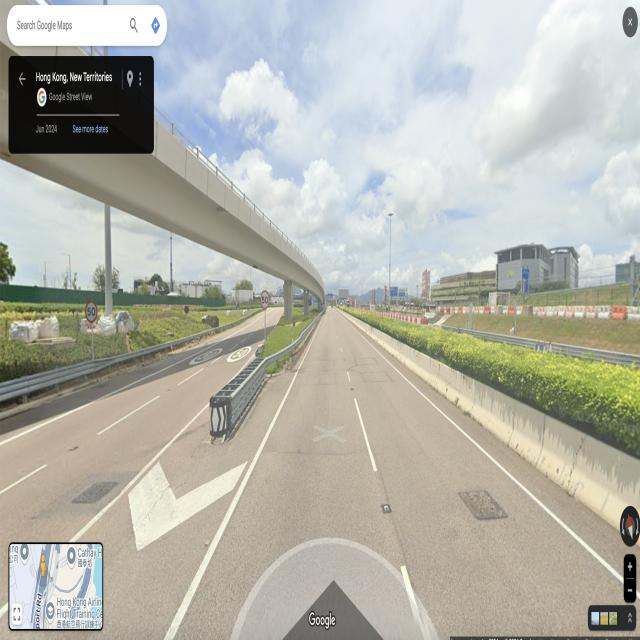Direction-Sign: (393, 286, 398, 296)
Order-Sign: (84, 298, 97, 323), (261, 290, 269, 310), (308, 299, 312, 307)
